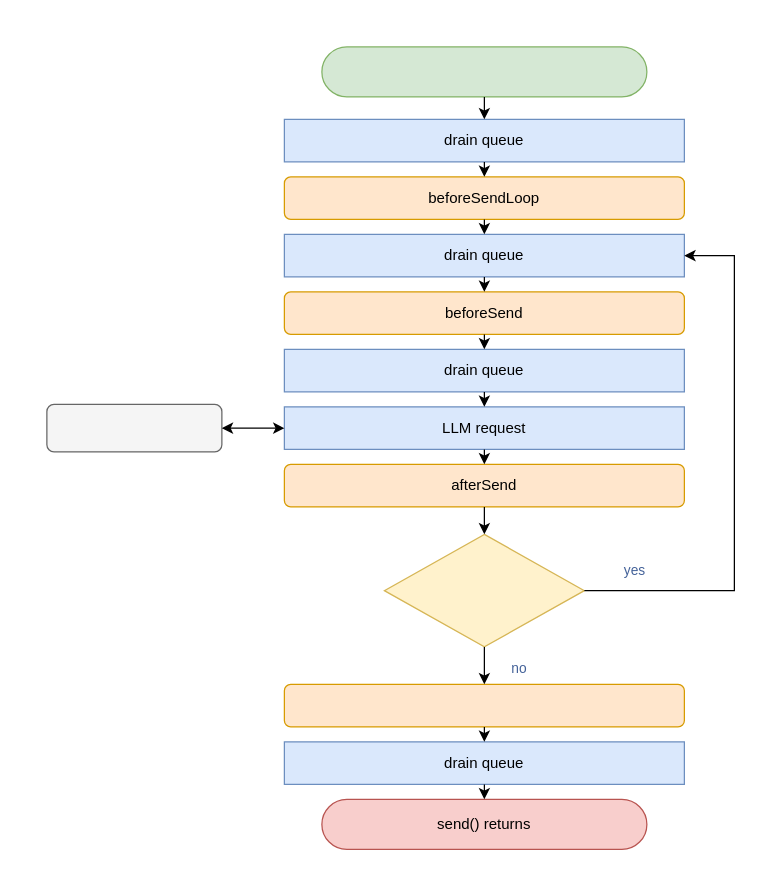
Image size: 780x895. Some labels were removed from this diagram. Each missing label, with the centre of its shape:
afterSendLoop: [483,705]
LLM provider: [134,427]
retry?: [483,590]
service.send(): [484,71]
